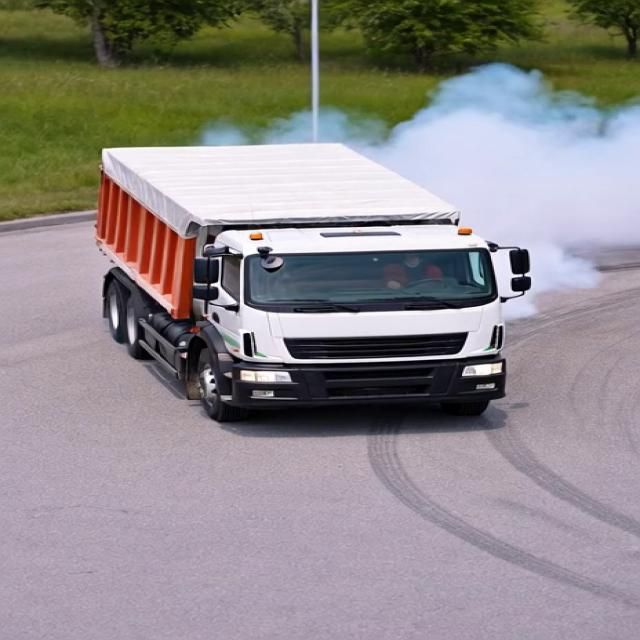trailer: (88, 145, 469, 213)
truck: (58, 122, 544, 429)
